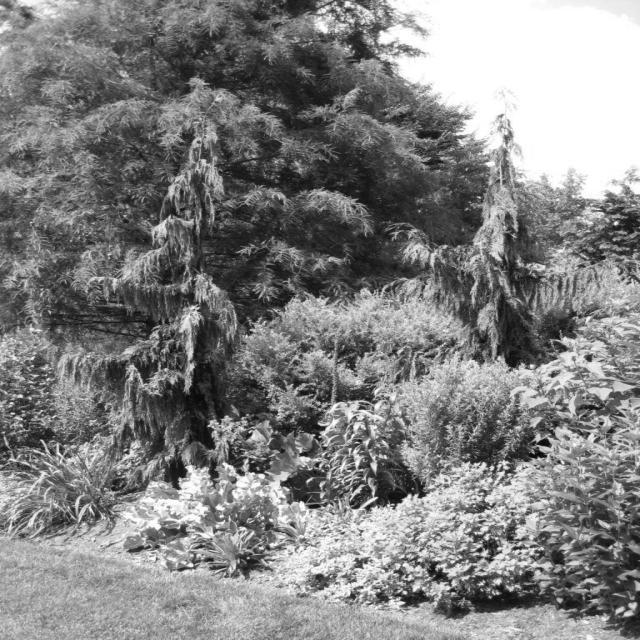Cupressus nootkatensis: (73, 87, 258, 475), (408, 94, 564, 402)
